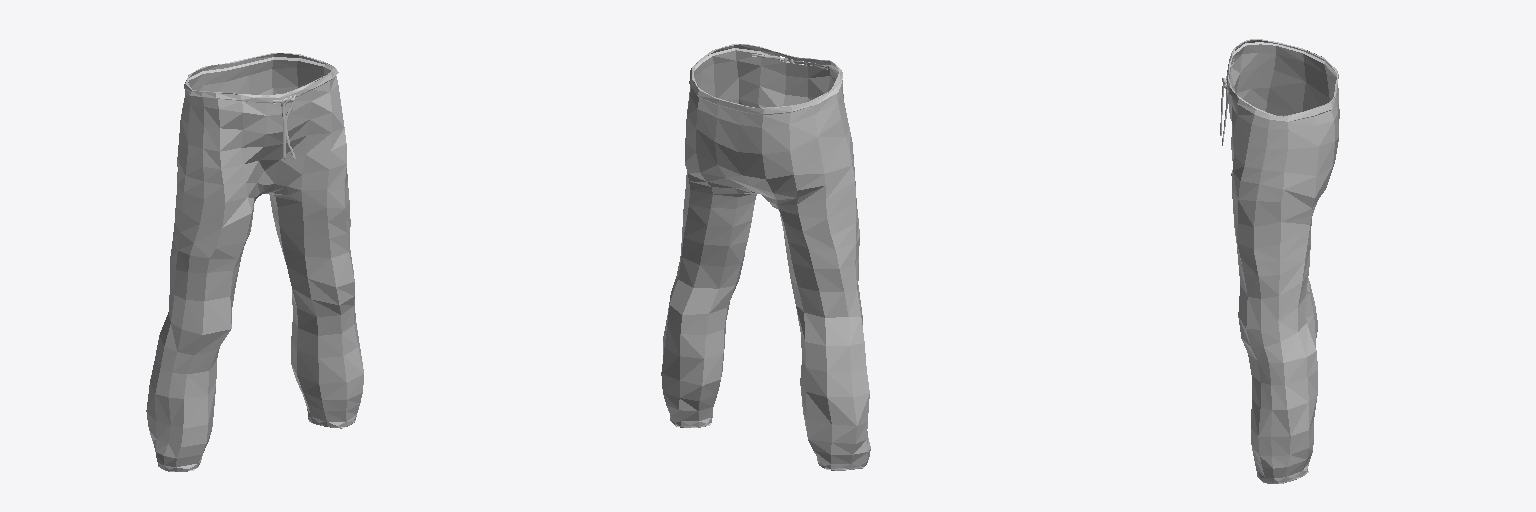
Rendered from pants.obj.
3 views of the same model, side by side, from view 1: azimuth 30°, elevation 25°; view 2: azimuth 150°, elevation 25°; view 3: azimuth 270°, elevation 25° (orthographic).
Visible parts, largest first — view 1: pants_Plane; view 2: pants_Plane; view 3: pants_Plane.
Boxes of the visible parts, x1,y1,x2,y2 form: pants_Plane: [146, 53, 363, 471]; pants_Plane: [661, 44, 870, 470]; pants_Plane: [1226, 39, 1339, 483].
Size of the model in its own units: 3.81 by 6.79 by 1.95.